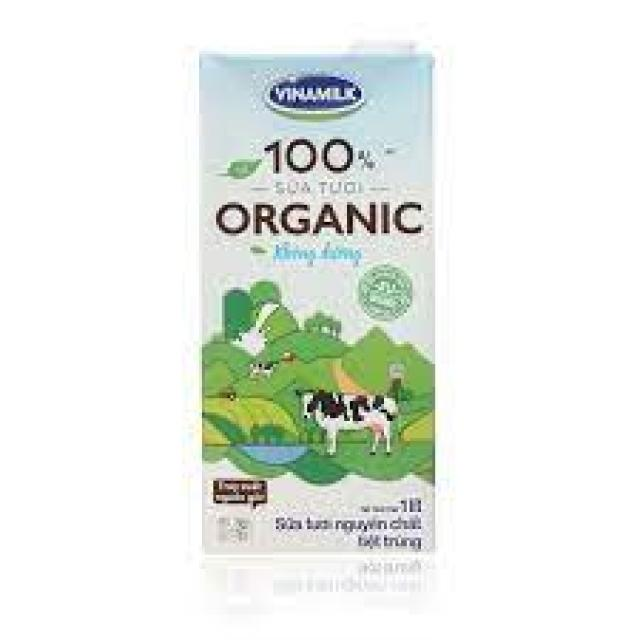non_white_jug: (171, 13, 455, 590)
